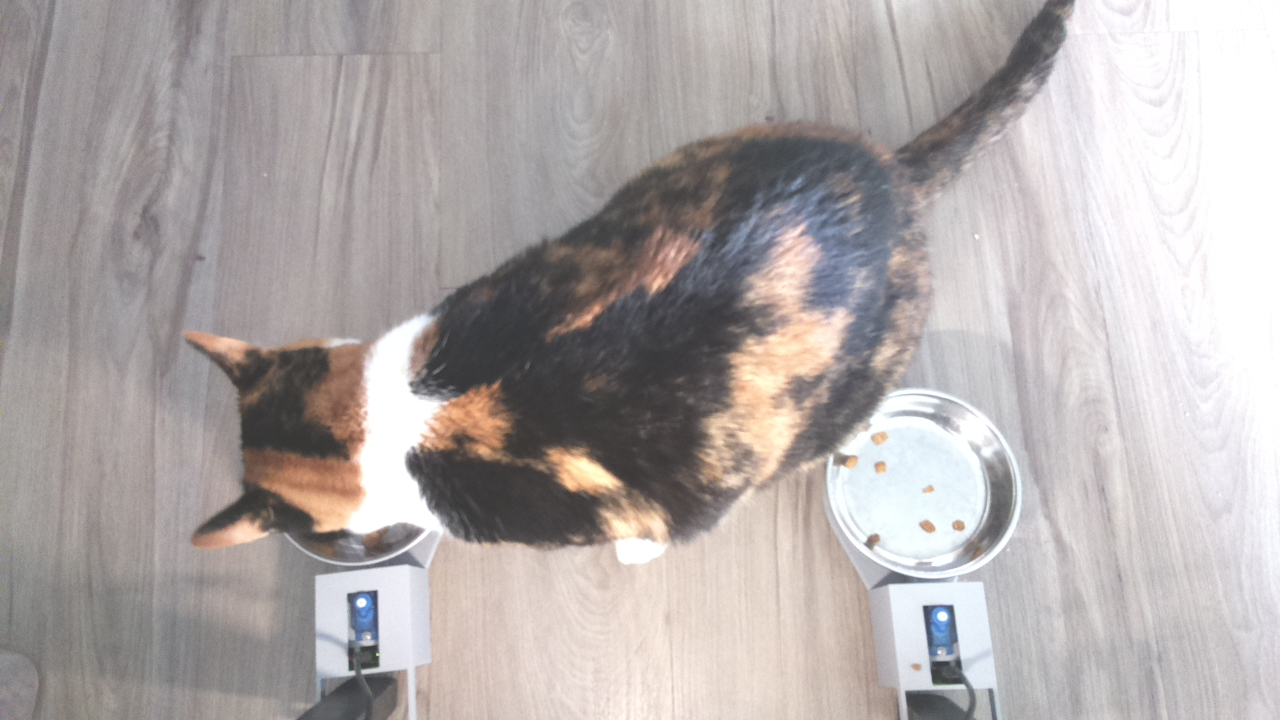bella_eating: (173, 300, 509, 582)
open_bowl: (823, 386, 1020, 584)
